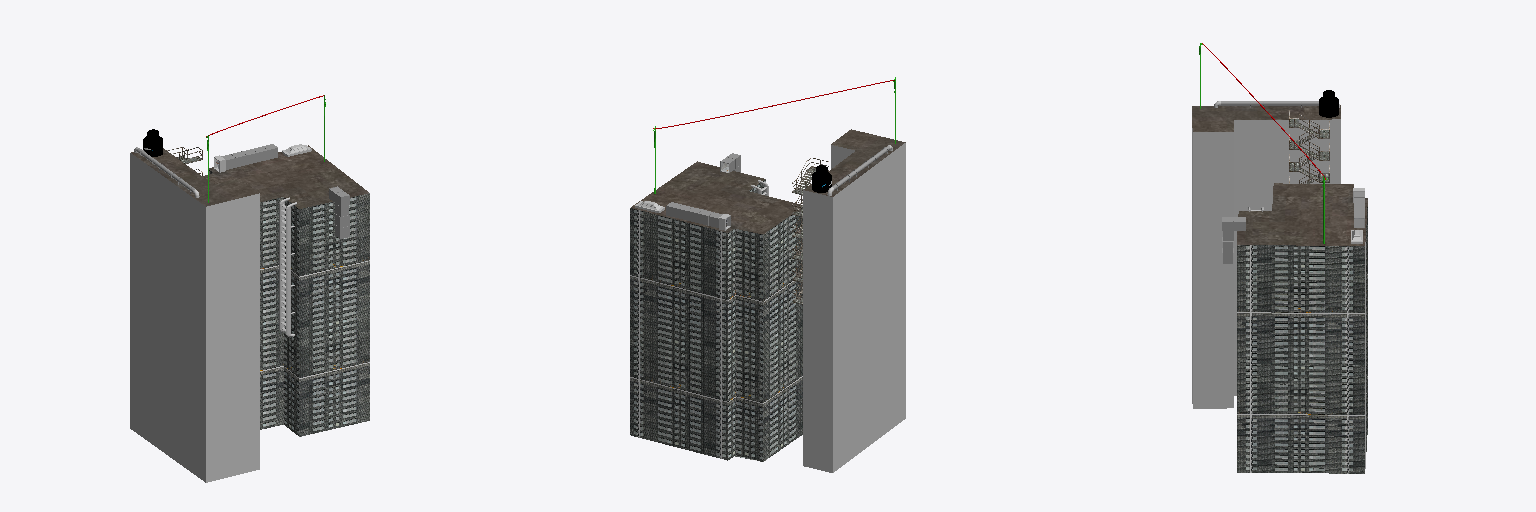
3 views of the same model, side by side, from view 1: azimuth 30°, elevation 25°; view 2: azimuth 150°, elevation 25°; view 3: azimuth 270°, elevation 25° (orthographic).
Parts seen in each view (by area): view 1: Edificio04.001_parque_espana.osm_buildings.007, Edificio02.001_parque_espana.osm_buildings.034, azoteas.002_parque_espana.osm_buildings.033, azoteas.001_parque_espana.osm_buildings.032, Cylinder, Cube.004; view 2: Edificio02.001_parque_espana.osm_buildings.034, Edificio04.001_parque_espana.osm_buildings.007, azoteas.002_parque_espana.osm_buildings.033, azoteas.001_parque_espana.osm_buildings.032, escalera, Cube.004; view 3: Edificio02.001_parque_espana.osm_buildings.034, Edificio04.001_parque_espana.osm_buildings.007, azoteas.002_parque_espana.osm_buildings.033, azoteas.001_parque_espana.osm_buildings.032, escalera.
Boxes of the visible parts, box(x1,y1,x2,y2) form: Edificio04.001_parque_espana.osm_buildings.007: box(130, 153, 259, 482); Edificio02.001_parque_espana.osm_buildings.034: box(209, 170, 369, 436); azoteas.002_parque_espana.osm_buildings.033: box(203, 145, 368, 208); azoteas.001_parque_espana.osm_buildings.032: box(131, 148, 258, 206); Cylinder: box(279, 197, 296, 336); Cube.004: box(221, 144, 277, 169); Edificio02.001_parque_espana.osm_buildings.034: box(630, 179, 802, 461); Edificio04.001_parque_espana.osm_buildings.007: box(803, 143, 905, 472); azoteas.002_parque_espana.osm_buildings.033: box(631, 161, 800, 233); azoteas.001_parque_espana.osm_buildings.032: box(804, 129, 905, 196); escalera: box(792, 158, 828, 304); Cube.004: box(666, 202, 722, 227); Edificio02.001_parque_espana.osm_buildings.034: box(1237, 207, 1367, 473); Edificio04.001_parque_espana.osm_buildings.007: box(1192, 119, 1340, 408); azoteas.002_parque_espana.osm_buildings.033: box(1237, 183, 1367, 245); azoteas.001_parque_espana.osm_buildings.032: box(1192, 105, 1340, 131); escalera: box(1289, 110, 1329, 183).
Size of the model in its own units: 21.82 by 37.65 by 17.48.
38 materials, 8 textured.